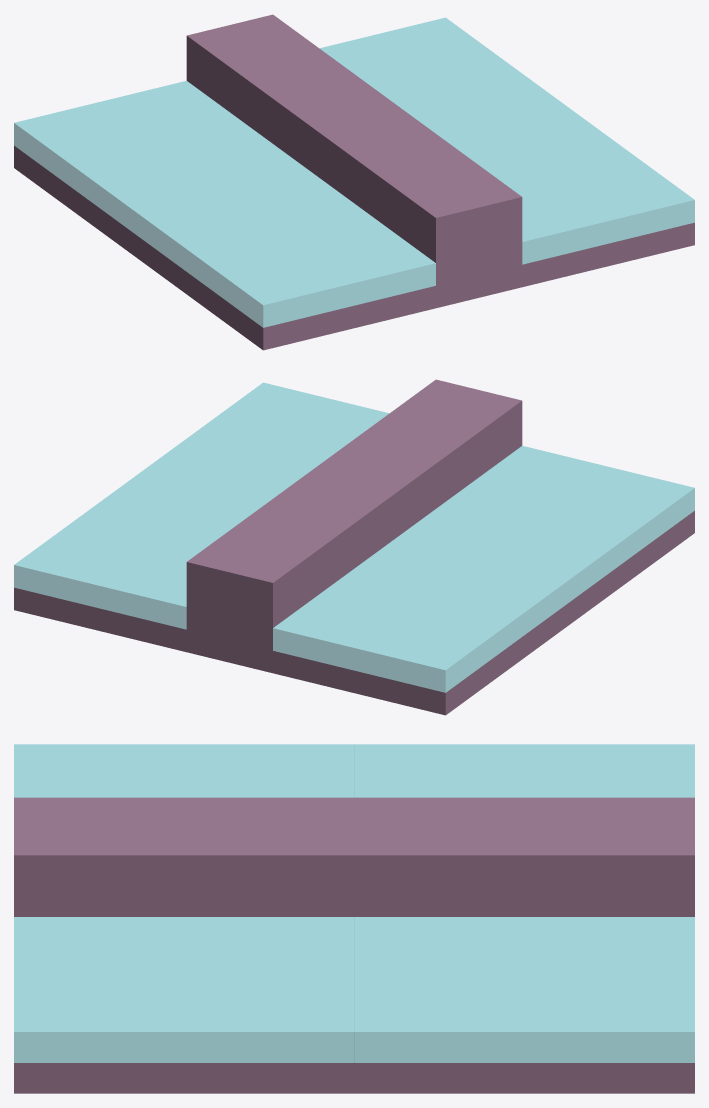
Rendered from alien-biosphere-causeway-tile-3041ca27__22770.glb.
3 views of the same model, one above another, from view 1: azimuth 30°, elevation 25°; view 2: azimuth 150°, elevation 25°; view 3: azimuth 270°, elevation 25° (orthographic). The views are drawn at different scales.
Parts seen in each view (by area): view 1: causeway-tile; view 2: causeway-tile; view 3: causeway-tile.
Boxes of the visible parts, <box> form: causeway-tile: <box>14,14,694,350</box>; causeway-tile: <box>14,379,694,715</box>; causeway-tile: <box>14,744,694,1093</box>.
Size of the model in its own units: 4 by 0.7998 by 4.
